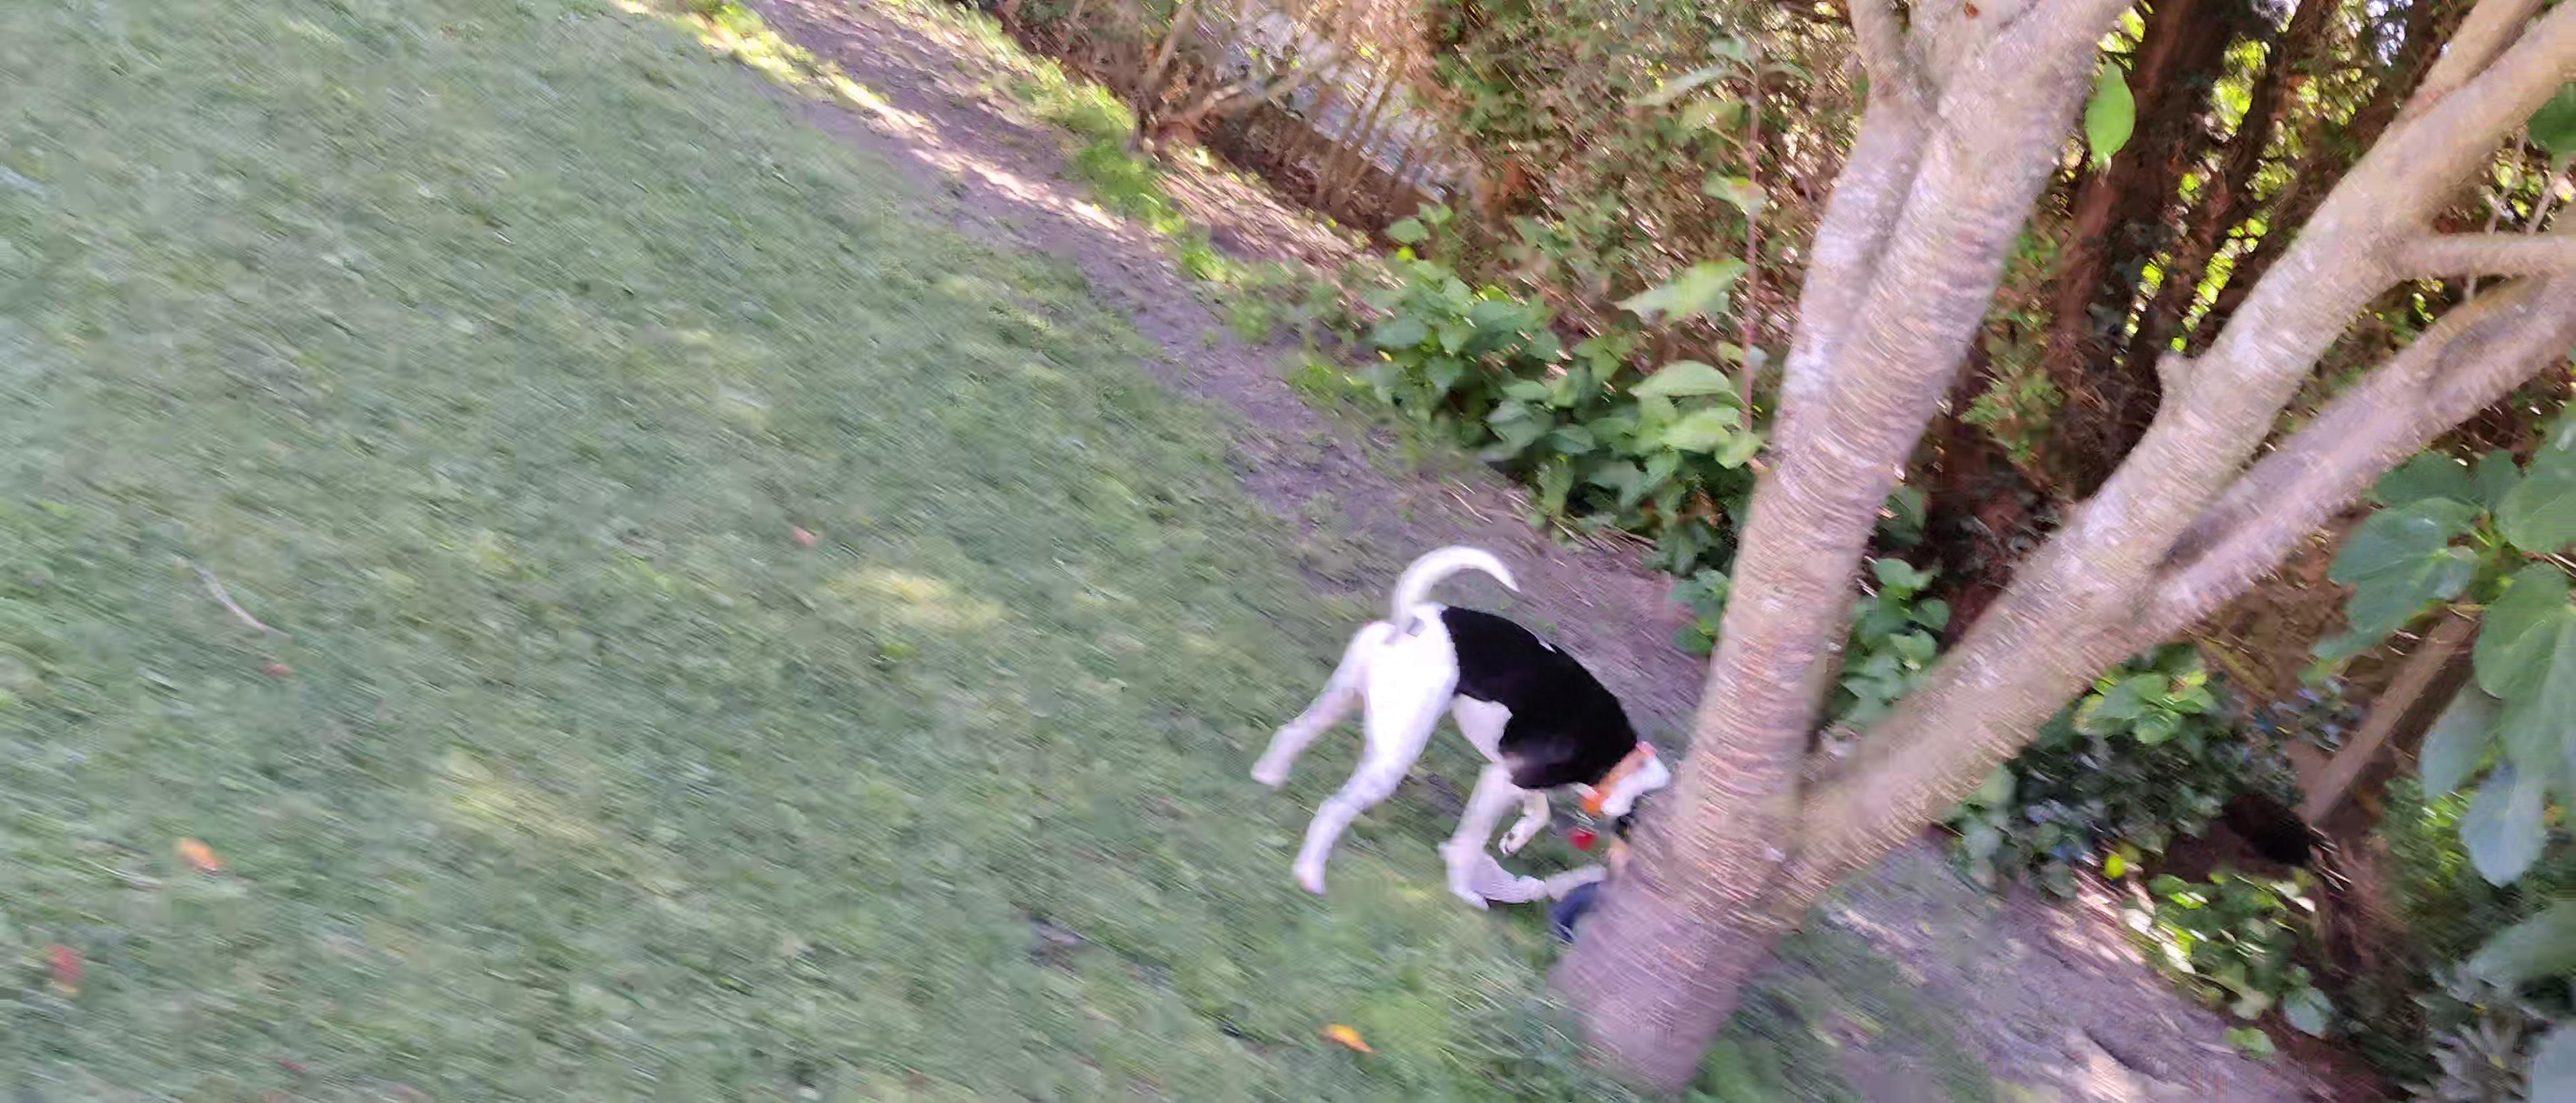Dog: (1239, 526, 1702, 909)
